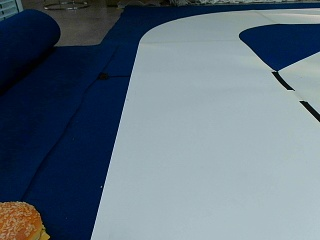burger: (1, 199, 45, 238)
